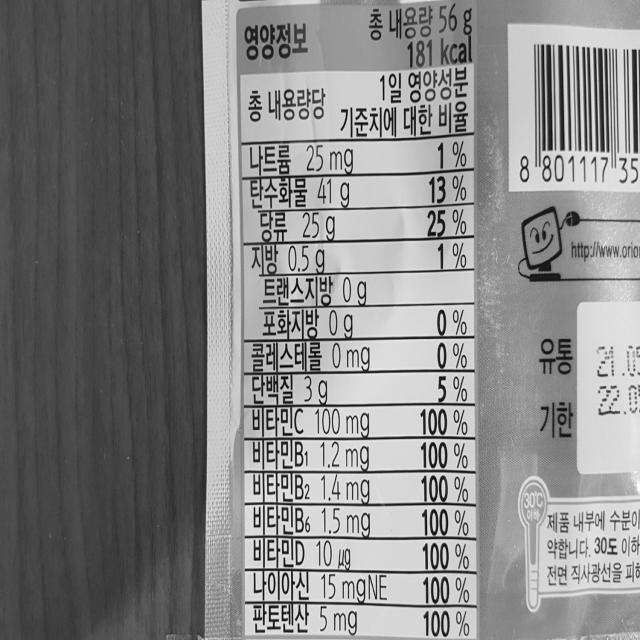Nutrition Label: (236, 7, 486, 640)
